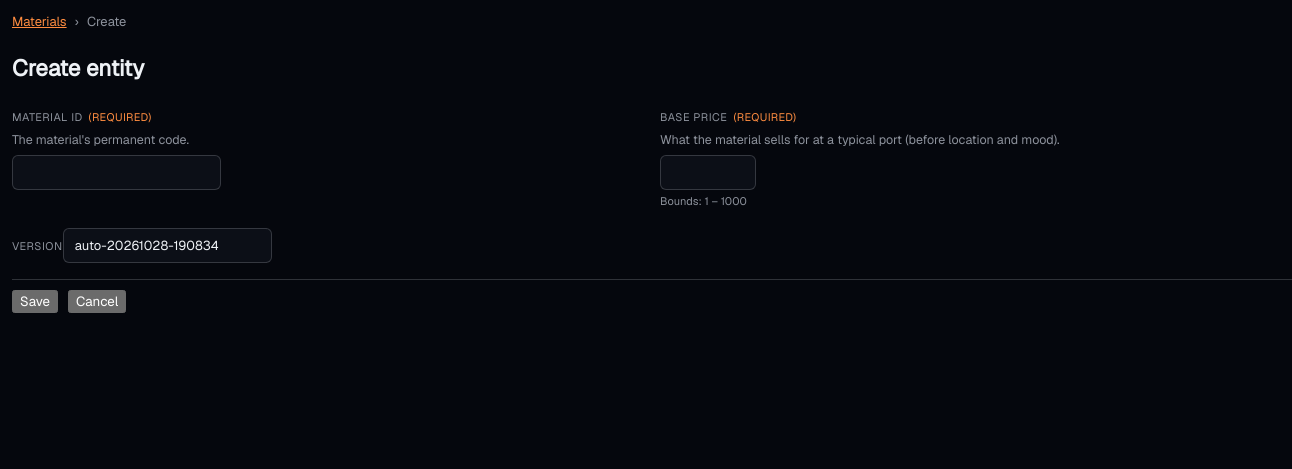
Test case: EntityScreen › shows what is wrong: a summary naming each field plus the message under the field itself
Type "x" into the field labelled "Material id(required)" at (116, 172), box [12,155,221,190]
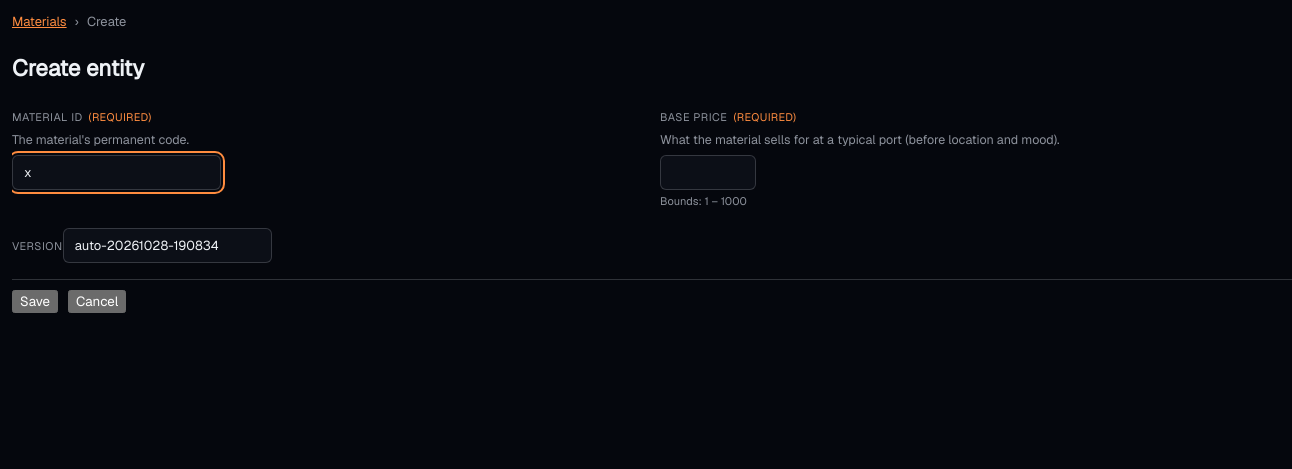
Type "5" into the number field labelled "Base price(required)" at (708, 172), box [660,155,756,190]
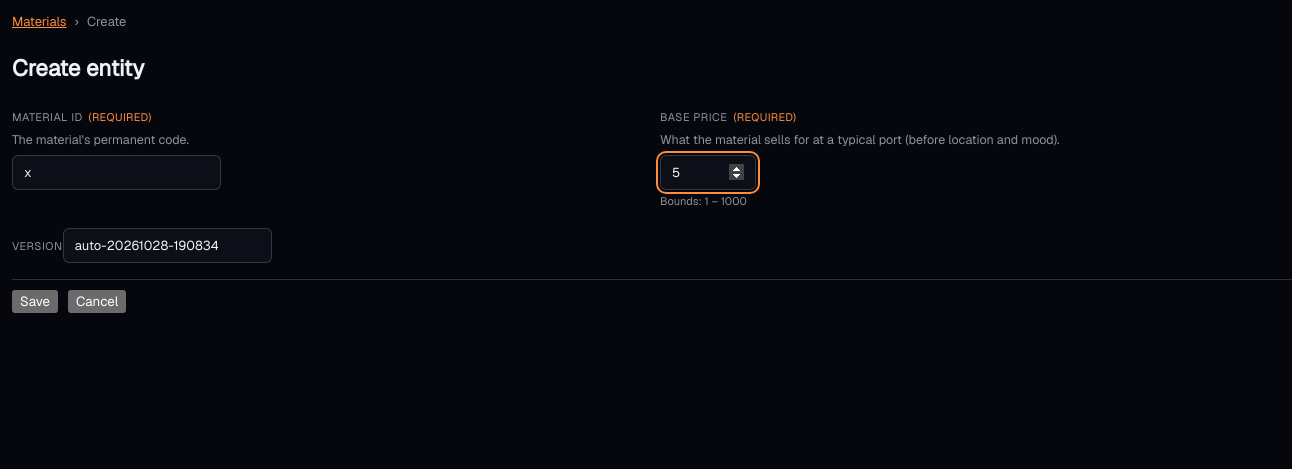
Click the button "Save" at (35, 302), box [12,290,58,313]
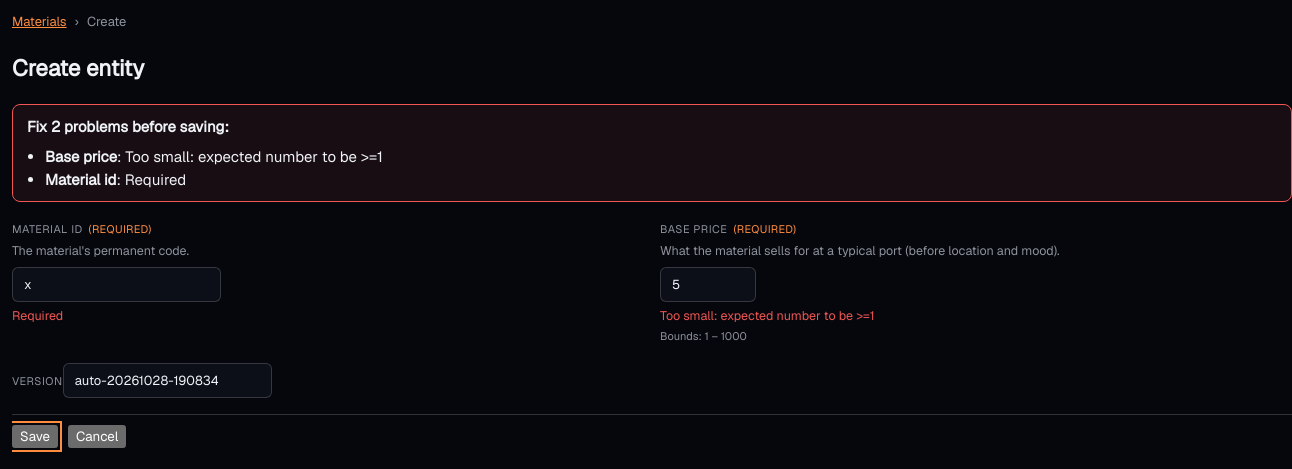
Expected: the text "Base price" is shown, [45,147,117,166]
Expected: the list item "Base price: Too small: expected number to be >=1" is shown, [45,147,383,166]
Expected: the list item "Material id: Required" is shown, [45,170,186,189]
